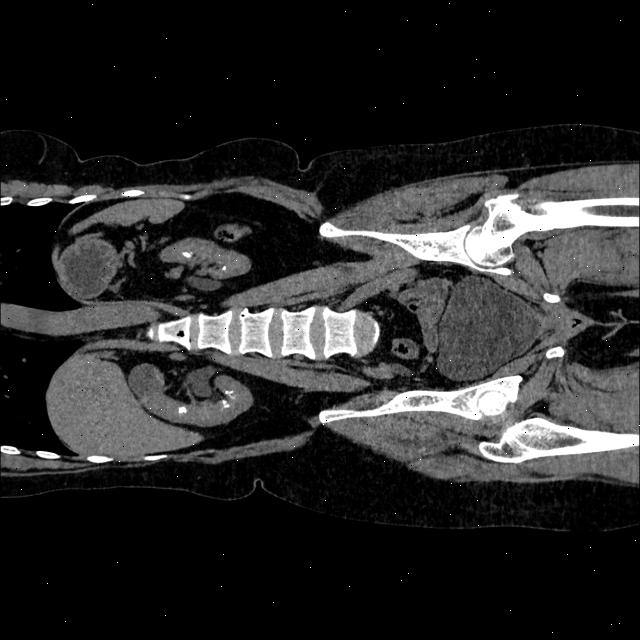kidneystone: (222, 399, 230, 408), (182, 250, 191, 258), (177, 405, 186, 412), (222, 264, 226, 270), (225, 390, 228, 392)
